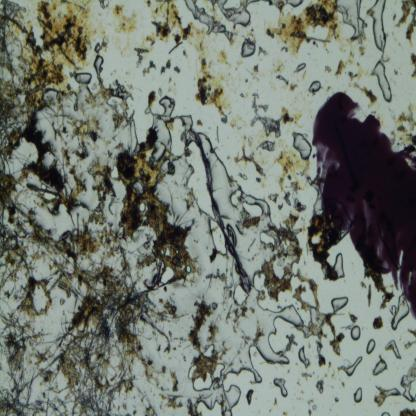Air bubble: (197, 298, 302, 415), (186, 144, 214, 218), (185, 0, 225, 34), (366, 0, 388, 52), (336, 0, 365, 37), (370, 61, 392, 103), (207, 216, 231, 254), (217, 0, 252, 26), (390, 295, 410, 330), (292, 132, 312, 160), (340, 355, 362, 377), (191, 375, 215, 394), (400, 374, 416, 401), (329, 294, 349, 314), (242, 200, 264, 218), (158, 95, 176, 116), (272, 376, 290, 397), (233, 283, 248, 307), (384, 340, 402, 359), (159, 265, 175, 285), (241, 37, 256, 58), (93, 54, 105, 77), (334, 253, 345, 278), (199, 343, 215, 360), (299, 345, 310, 369), (210, 362, 226, 378), (372, 358, 388, 374), (230, 187, 242, 208), (383, 387, 402, 398), (366, 337, 376, 355), (350, 325, 361, 341), (285, 0, 305, 8), (188, 363, 196, 381), (354, 387, 362, 404), (309, 80, 320, 92), (294, 61, 305, 72), (94, 41, 102, 53)
Background material: (0, 0, 89, 228), (53, 258, 184, 412), (117, 129, 198, 287), (0, 220, 123, 284), (183, 23, 235, 125), (294, 269, 345, 365), (262, 211, 307, 305), (88, 79, 137, 162), (267, 0, 338, 55), (0, 313, 52, 377), (190, 298, 222, 382), (250, 91, 302, 139), (146, 0, 185, 55), (87, 158, 117, 227), (10, 269, 52, 316), (275, 148, 309, 193), (228, 305, 265, 345), (390, 104, 416, 150), (160, 365, 184, 412), (233, 146, 266, 176), (112, 2, 141, 34), (334, 38, 356, 77), (396, 0, 416, 42), (354, 81, 377, 108), (132, 41, 148, 69), (349, 62, 370, 81), (276, 74, 298, 92), (282, 332, 298, 353), (140, 60, 157, 77), (303, 396, 318, 415), (407, 49, 416, 80), (293, 196, 308, 213), (249, 63, 262, 80), (256, 140, 276, 151), (271, 59, 285, 74), (397, 406, 416, 416), (146, 89, 156, 107), (315, 378, 325, 394), (245, 387, 254, 404), (373, 316, 383, 331), (345, 312, 360, 322), (97, 0, 109, 11), (284, 190, 292, 206), (332, 391, 341, 404), (269, 191, 279, 202), (358, 43, 366, 55), (324, 64, 332, 74), (300, 372, 310, 380), (380, 410, 390, 416)
Cotton: (188, 126, 251, 292)
Diatom: (366, 282, 372, 307), (258, 46, 269, 58), (255, 175, 262, 183), (174, 66, 181, 74), (165, 62, 171, 70), (286, 173, 292, 181), (392, 12, 396, 21), (162, 66, 166, 74), (182, 49, 186, 56)
Glass filter fibre: (0, 368, 68, 416)
Pen: (312, 91, 416, 320)
